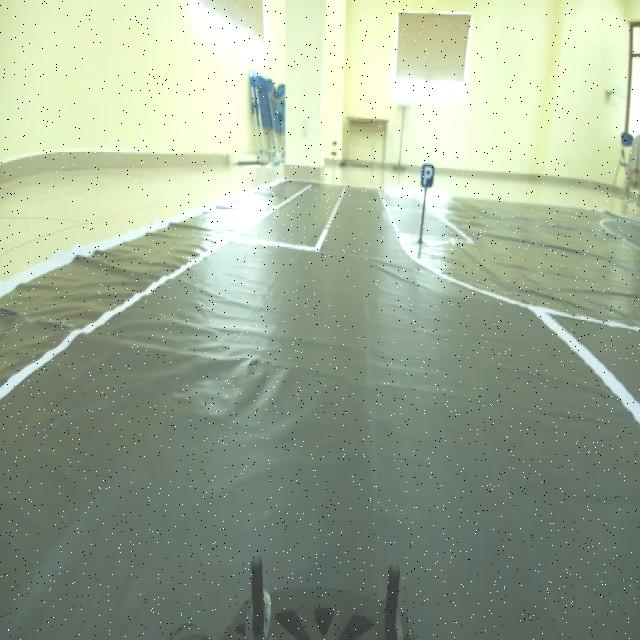parking: (414, 156, 440, 193)
